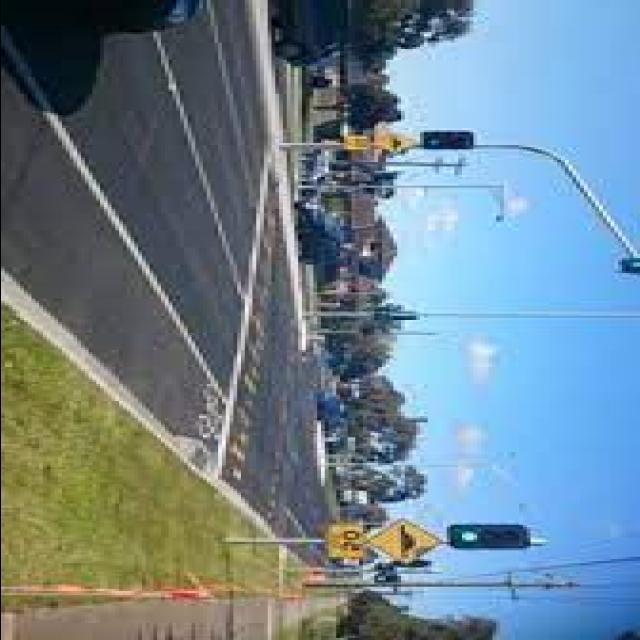speedbreaker: (214, 180, 288, 492), (260, 270, 318, 526)
